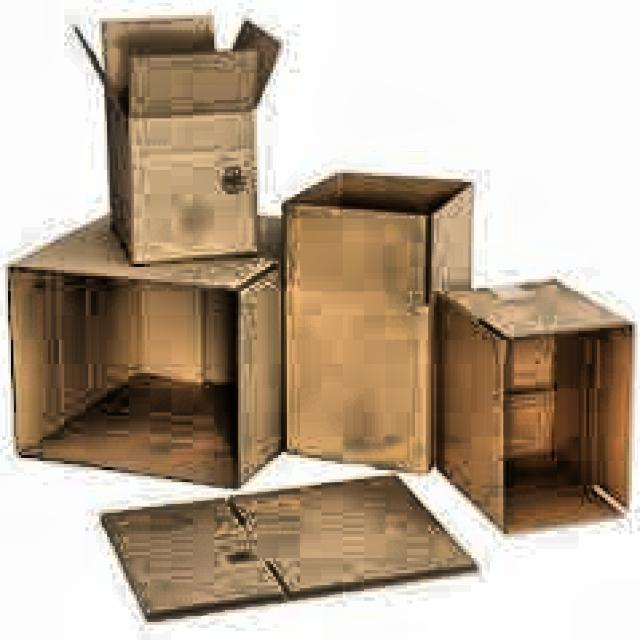cardboard: (278, 170, 472, 473), (96, 470, 477, 622), (72, 12, 281, 264), (431, 276, 635, 534)
